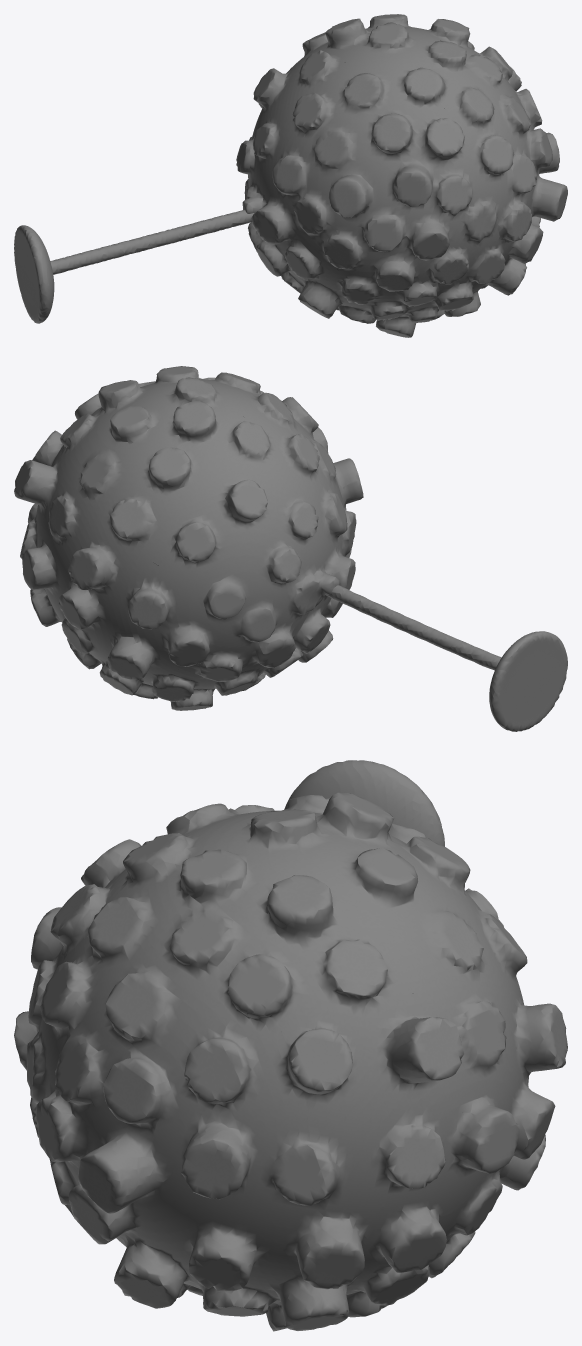
Rendered from disco.gltf.
The picture shows the model from 3 angles, top to bottom: view 1: azimuth 30°, elevation 25°; view 2: azimuth 150°, elevation 25°; view 3: azimuth 270°, elevation 25°; orthographic projection. The views are drawn at different scales.
Visible parts, largest first — view 1: Layer_1, Layer_2; view 2: Layer_1, Layer_2; view 3: Layer_1, Layer_2.
Boxes of the visible parts, bbox=[...] form: Layer_1: bbox=[236, 14, 567, 337]; Layer_2: bbox=[14, 210, 254, 323]; Layer_1: bbox=[14, 366, 363, 710]; Layer_2: bbox=[325, 585, 567, 731]; Layer_1: bbox=[14, 792, 567, 1331]; Layer_2: bbox=[284, 760, 444, 846].
Bounding box in the file's own units: 88.53 × 49.69 × 50.67.
Materials: 2 (2 with a texture image).
